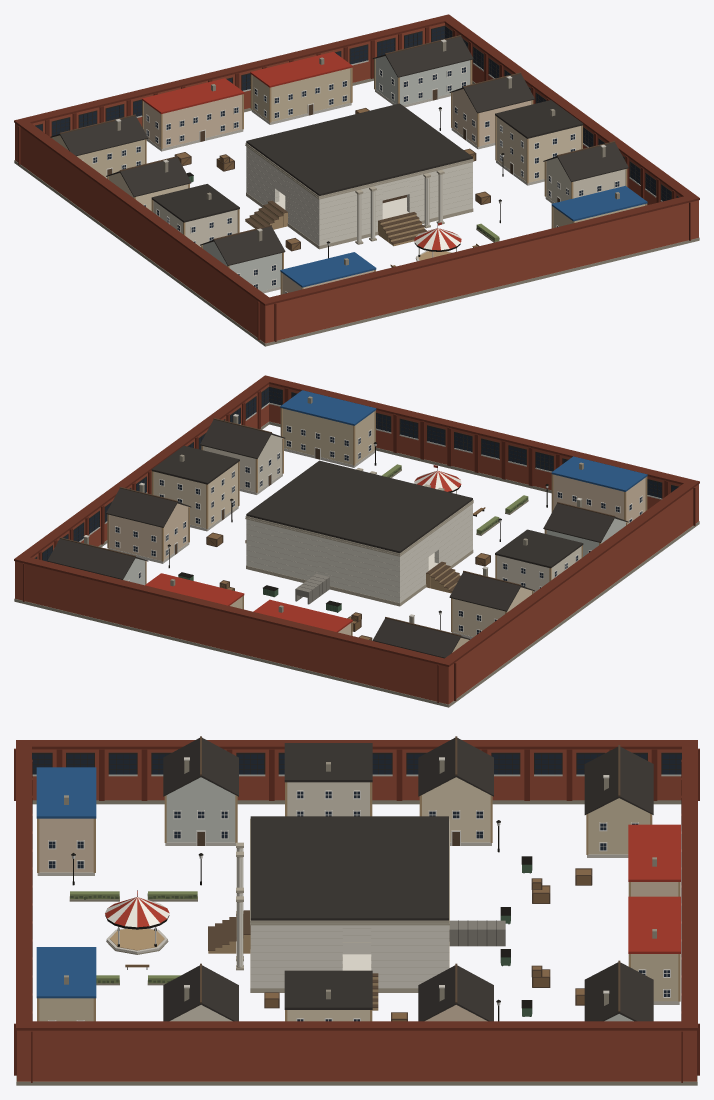
Rendered from ferradura.glb.
3 renders of one model, top to bottom at view 1: azimuth 30°, elevation 25°; view 2: azimuth 150°, elevation 25°; view 3: azimuth 270°, elevation 25°, orthographic. The views are drawn at different scales.
Visible parts, largest first — view 1: map_brick.001, map_roof_slate.001, map_brick_d.001, map_marble.001, map_wall_4.001, map_wall_1.001, map_glass.001, map_roof_red.001, map_wall_3.001, map_roof_blue.001, map_trim.001, map_wall_2.001 (+9 smaller); view 2: map_brick.001, map_roof_slate.001, map_brick_d.001, map_marble.001, map_wall_4.001, map_glass.001, map_wall_2.001, map_stone_dark.001, map_roof_blue.001, map_wall_1.001, map_roof_red.001, map_wall_0.001 (+10 smaller); view 3: map_roof_slate.001, map_brick.001, map_brick_d.001, map_marble.001, map_roof_red.001, map_roof_blue.001, map_stone_dark.001, map_glass.001, map_wall_1.001, map_wall_4.001, map_wall_2.001, map_wall_3.001 (+12 smaller).
Part boxes in pixels (x1=…): map_brick.001: x1=15, y1=23, x2=698, y2=343; map_roof_slate.001: x1=50, y1=36, x2=628, y2=265; map_brick_d.001: x1=14, y1=14, x2=699, y2=341; map_marble.001: x1=246, y1=146, x2=472, y2=245; map_wall_4.001: x1=143, y1=89, x2=531, y2=294; map_wall_1.001: x1=51, y1=68, x2=645, y2=227; map_glass.001: x1=36, y1=26, x2=677, y2=293; map_roof_red.001: x1=142, y1=51, x2=461, y2=250; map_wall_3.001: x1=203, y1=56, x2=470, y2=291; map_roof_blue.001: x1=280, y1=186, x2=647, y2=287; map_trim.001: x1=82, y1=66, x2=619, y2=293; map_wall_2.001: x1=109, y1=117, x2=581, y2=210; map_brick.001: x1=15, y1=384, x2=698, y2=704; map_roof_slate.001: x1=47, y1=419, x2=628, y2=658; map_brick_d.001: x1=14, y1=375, x2=699, y2=702; map_marble.001: x1=246, y1=504, x2=472, y2=602; map_wall_4.001: x1=109, y1=474, x2=645, y2=635; map_glass.001: x1=36, y1=387, x2=677, y2=634; map_wall_2.001: x1=153, y1=462, x2=531, y2=636; map_stone_dark.001: x1=14, y1=396, x2=699, y2=707; map_roof_blue.001: x1=280, y1=390, x2=647, y2=491; map_wall_1.001: x1=230, y1=408, x2=469, y2=652; map_roof_red.001: x1=145, y1=465, x2=461, y2=632; map_wall_0.001: x1=203, y1=434, x2=581, y2=593; map_roof_slate.001: x1=163, y1=737, x2=653, y2=1021; map_brick.001: x1=17, y1=749, x2=696, y2=1081; map_brick_d.001: x1=14, y1=740, x2=699, y2=1082; map_marble.001: x1=237, y1=848, x2=448, y2=988; map_roof_red.001: x1=105, y1=824, x2=680, y2=953; map_roof_blue.001: x1=36, y1=767, x2=96, y2=998; map_stone_dark.001: x1=16, y1=760, x2=697, y2=1085; map_glass.001: x1=32, y1=754, x2=681, y2=1021; map_wall_1.001: x1=39, y1=798, x2=678, y2=1021; map_wall_4.001: x1=39, y1=818, x2=678, y2=1021; map_wall_2.001: x1=287, y1=777, x2=490, y2=1021; map_wall_3.001: x1=166, y1=777, x2=633, y2=1021.
Bounding box in the file's own units: 96.8 × 12.12 × 96.8.
